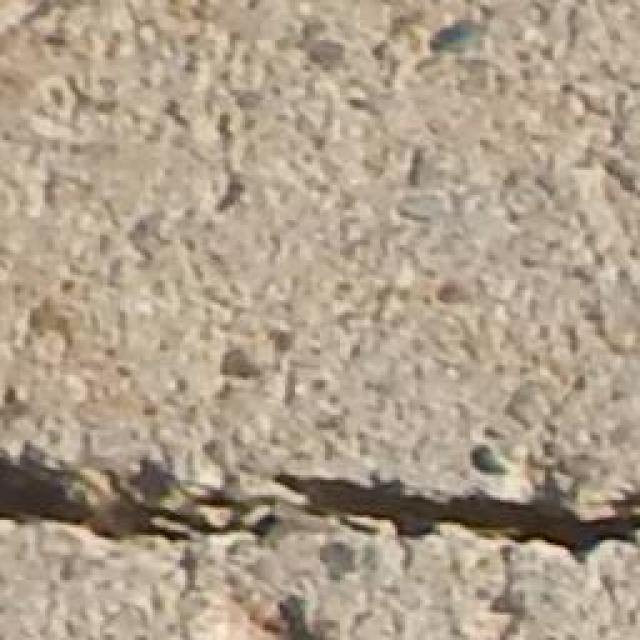concrete-crack: (0, 436, 640, 574)
